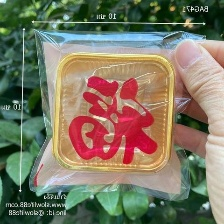snack: (24, 22, 212, 208)
